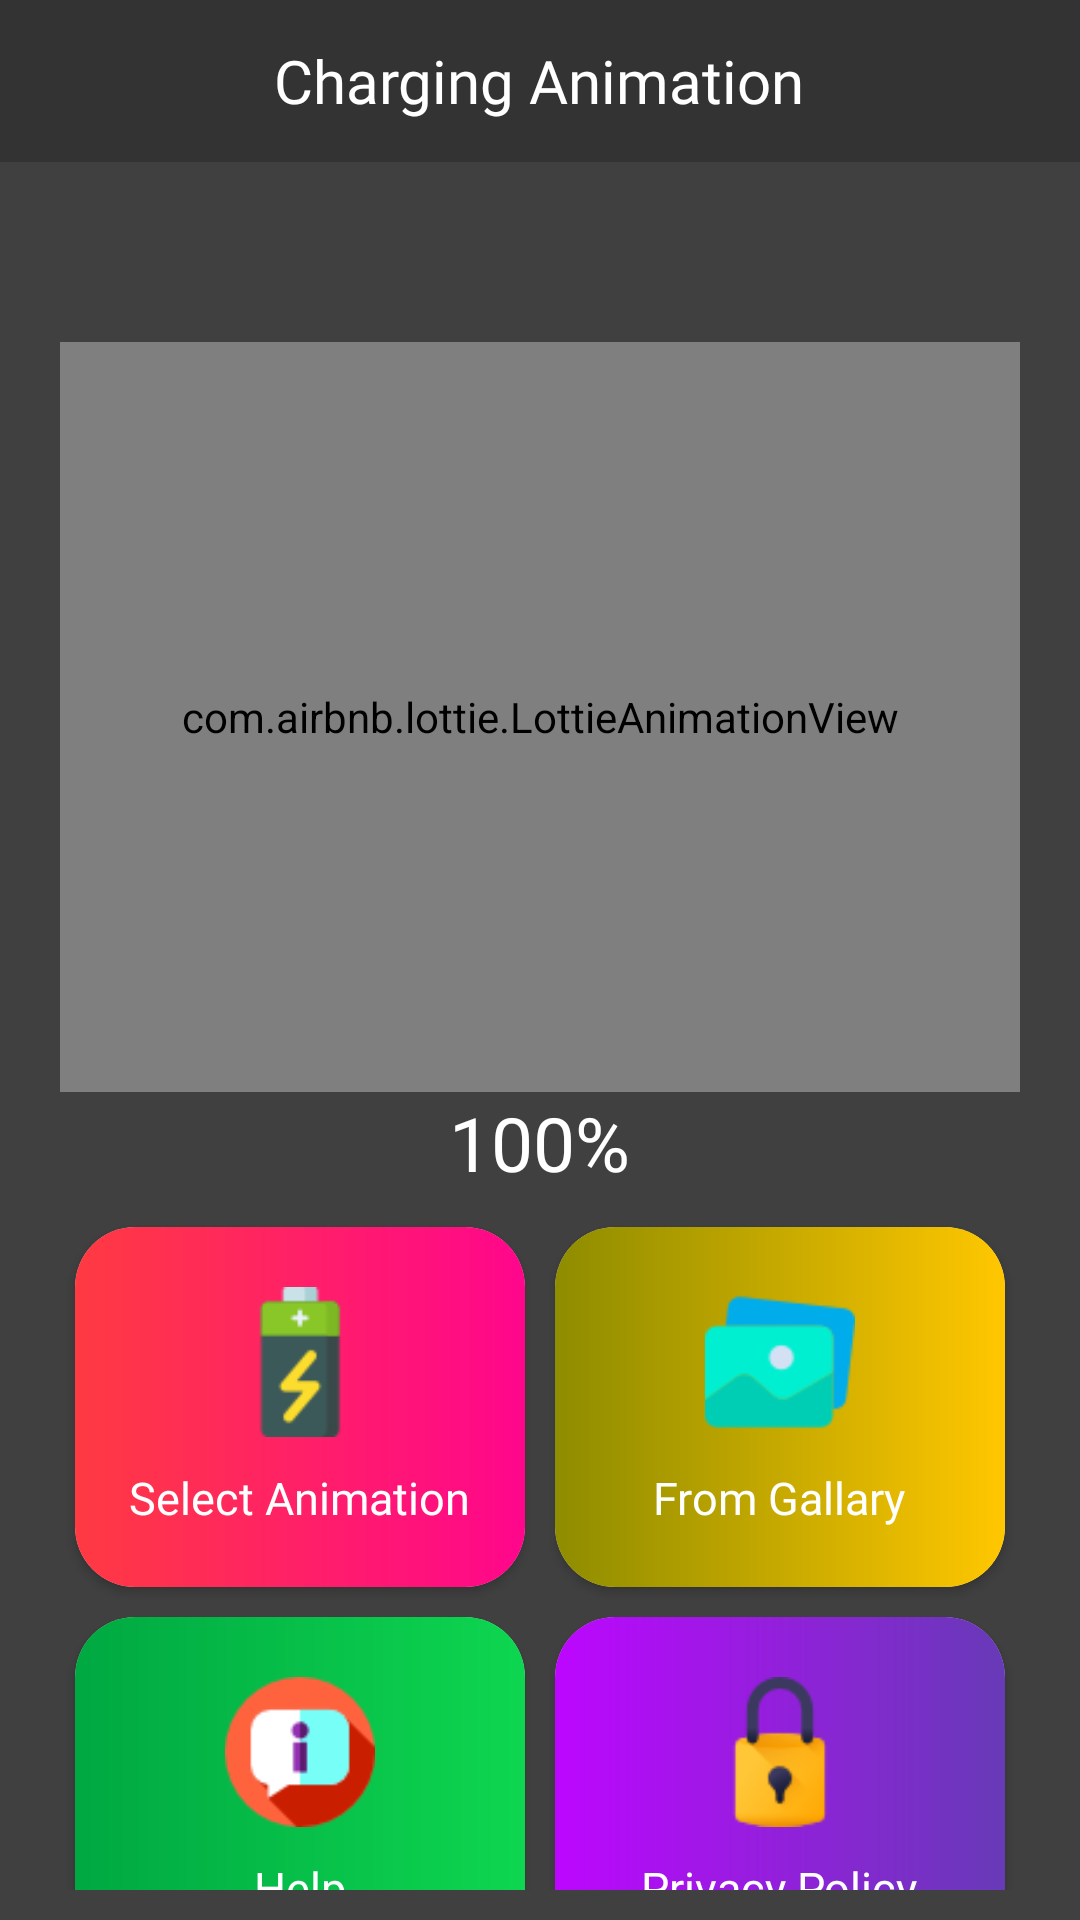

Screen size 1080×1920. Icon name, then its center in pixels as point (x, y):
battery: point (300, 1362)
tutorial: point (300, 1752)
